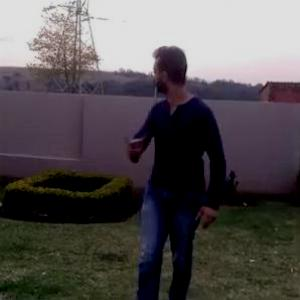takeoff-hand: (120, 123, 150, 163)
